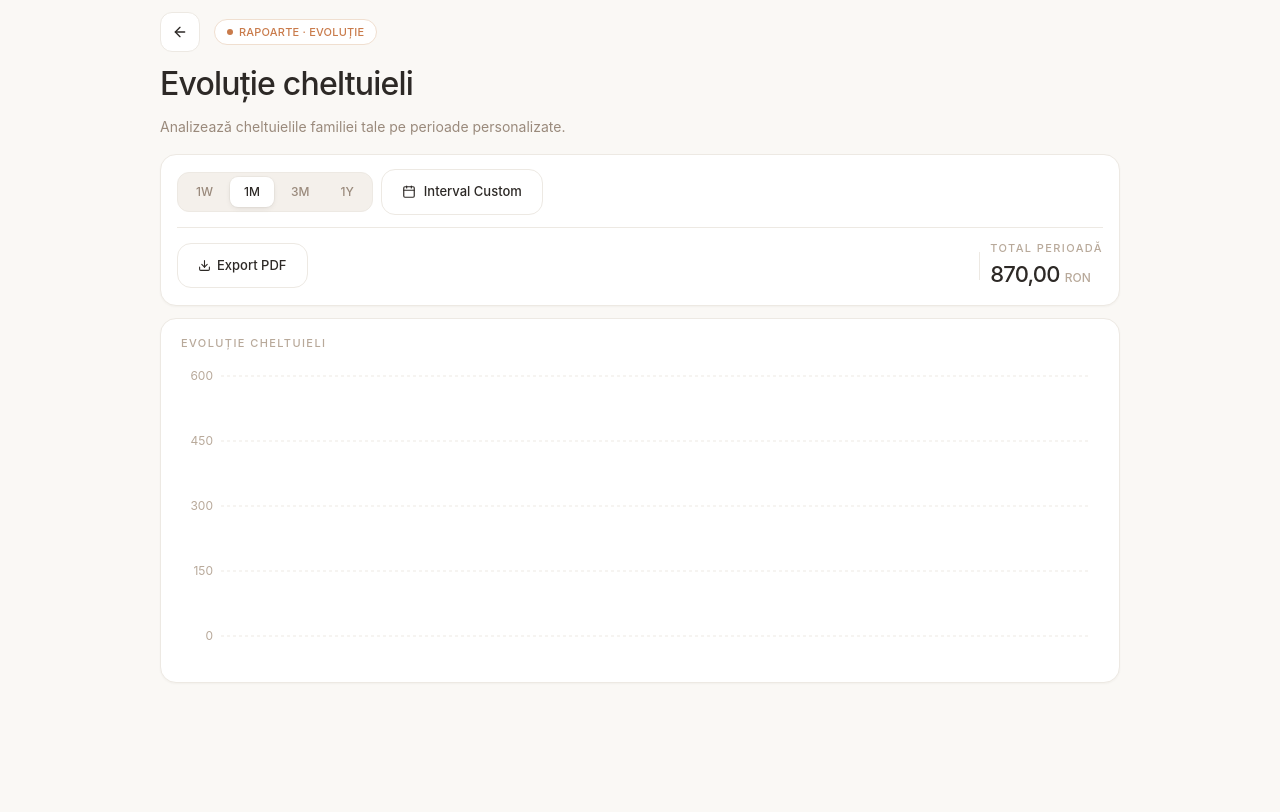
Test: Reports Component › afișează eroare de format pentru dată invalidă
Click the button "Interval Custom".
click(462, 192)  # box top-left (381, 169), bottom-right (543, 215)
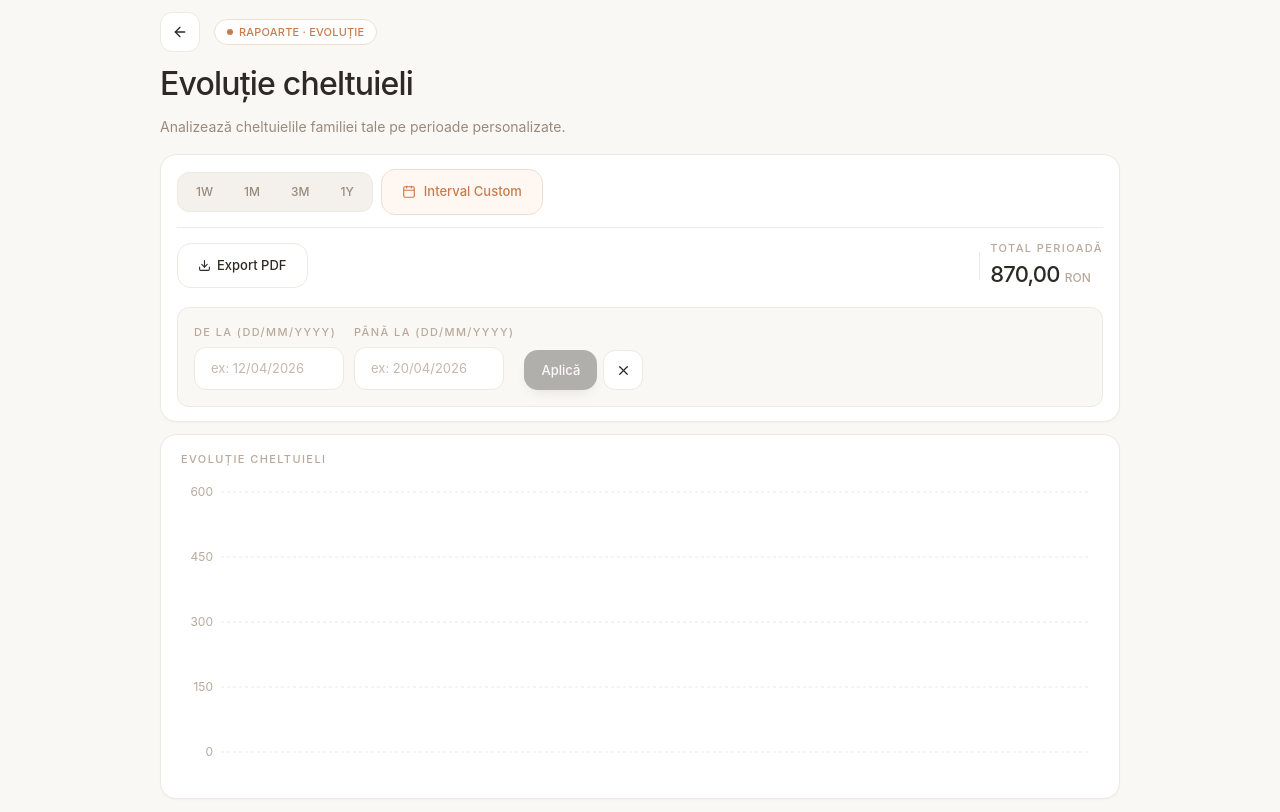
Type "32/13/2026" into the field with placeholder "ex: 12/04/2026".
click(269, 369); type("32/13/2026")  # box top-left (194, 347), bottom-right (344, 390)
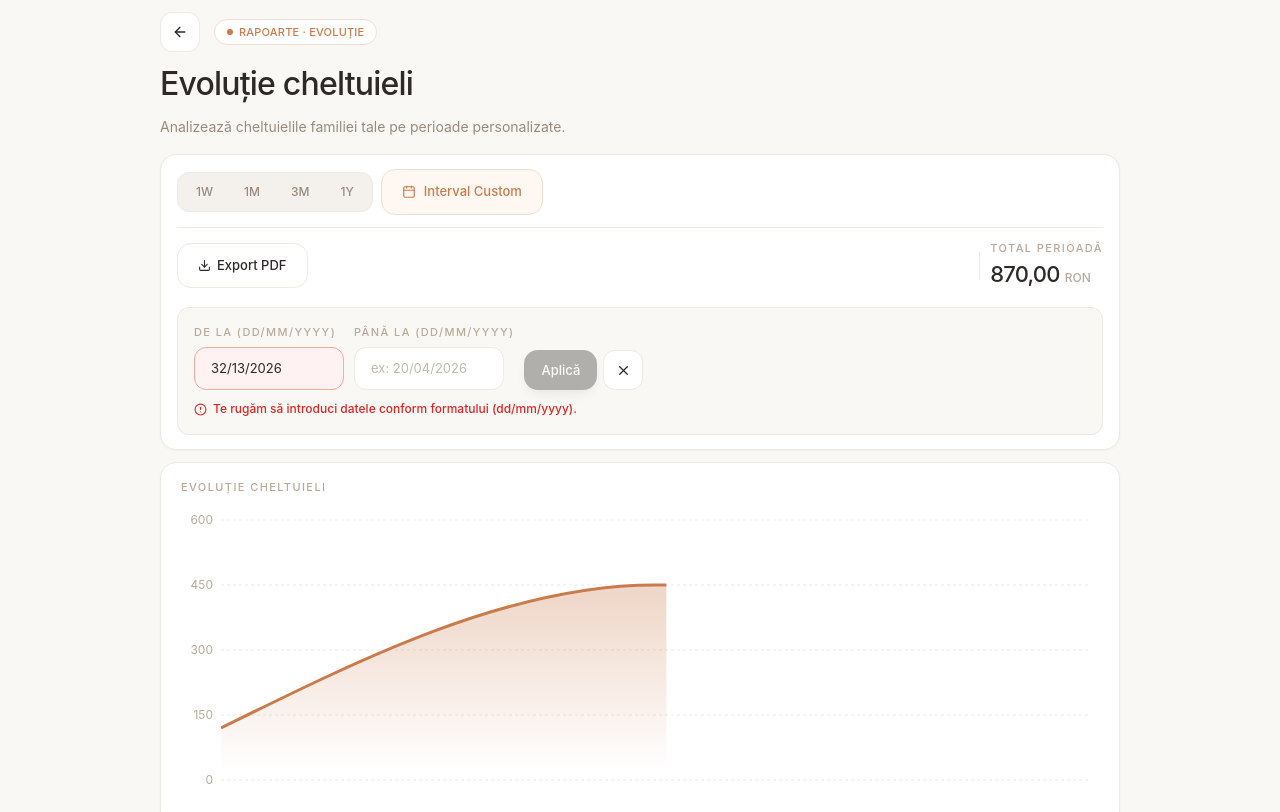
Now the text "Te rugăm să introduci datele conform formatului" is shown, box top-left (213, 401), bottom-right (577, 416)
